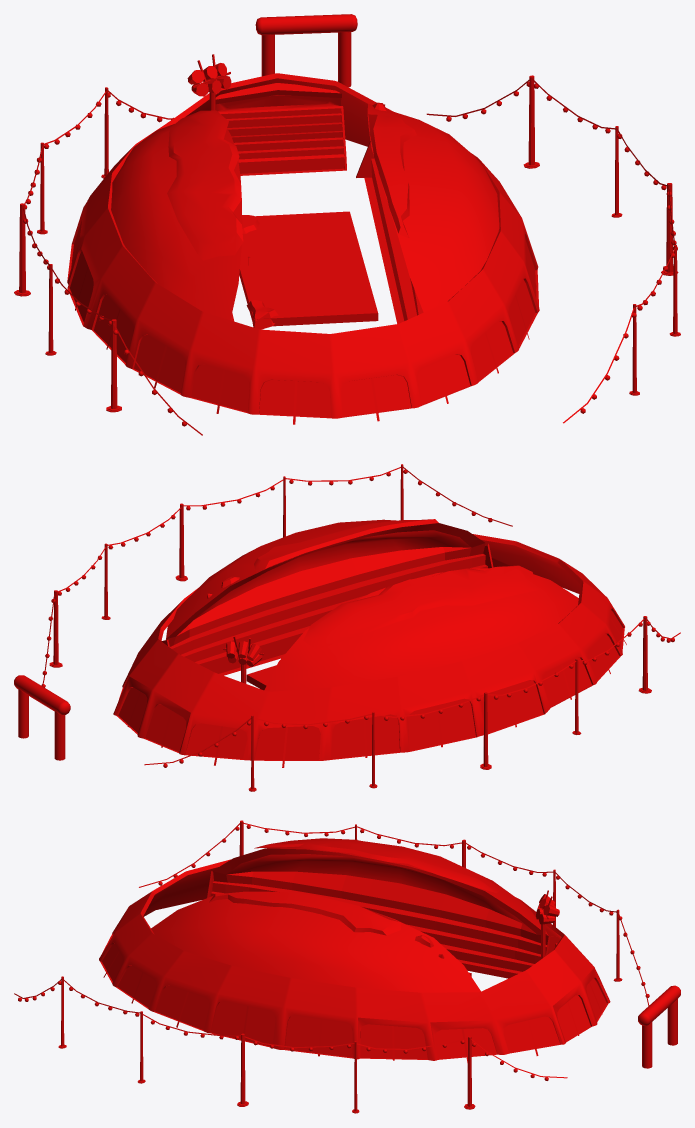
File: Neighborhood_JamboreeSquare_02.glb
The picture shows the model from 3 angles, top to bottom: view 1: azimuth 30°, elevation 25°; view 2: azimuth 150°, elevation 25°; view 3: azimuth 270°, elevation 25°; orthographic projection. The views are drawn at different scales.
Parts seen in each view (by area): view 1: polySurface152, Building_JamboreeRoof, Snow, Object_Lights1, Object_Lights, Object_JamboreeGate, Object_WindowLines; view 2: polySurface152, Building_JamboreeRoof, Snow, Object_Lights1, Object_Lights, Object_JamboreeGate, Object_WindowLines; view 3: polySurface152, Building_JamboreeRoof, Snow, Object_Lights, Object_Lights1, Object_JamboreeGate, Object_WindowLines.
Part boxes in pixels (x1,y1,x2,y2): polySurface152: [67, 54, 539, 418]; Building_JamboreeRoof: [111, 104, 499, 320]; Snow: [167, 102, 416, 329]; Object_Lights1: [14, 87, 202, 435]; Object_Lights: [426, 75, 680, 423]; Object_JamboreeGate: [255, 14, 357, 87]; Object_WindowLines: [75, 253, 536, 424]; polySurface152: [113, 523, 624, 760]; Building_JamboreeRoof: [166, 519, 578, 691]; Snow: [207, 519, 541, 649]; Object_Lights1: [144, 616, 680, 791]; Object_Lights: [41, 464, 512, 687]; Object_JamboreeGate: [14, 675, 70, 760]; Object_WindowLines: [127, 618, 626, 767]; polySurface152: [99, 848, 610, 1060]; Building_JamboreeRoof: [151, 841, 548, 992]; Snow: [209, 838, 499, 958]; Object_Lights: [14, 976, 567, 1113]; Object_Lights1: [139, 820, 649, 1005]; Object_JamboreeGate: [638, 985, 680, 1068]; Object_WindowLines: [103, 951, 602, 1063].
Bounding box in the file's own units: 33.69 × 7.98 × 42.18.
